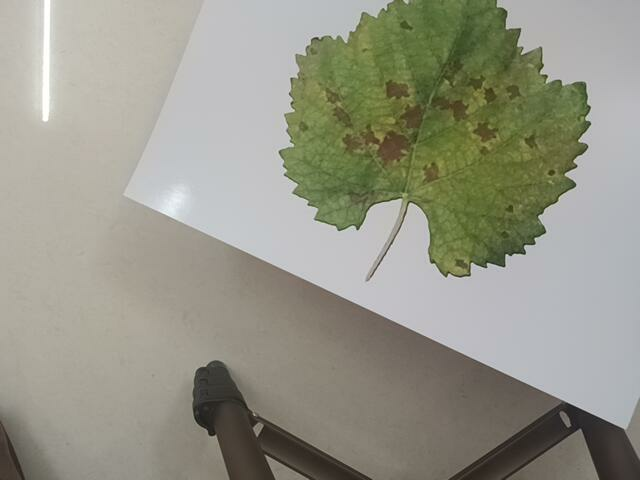Grape_Leaf_Vine_Disease: (267, 14, 562, 264)
